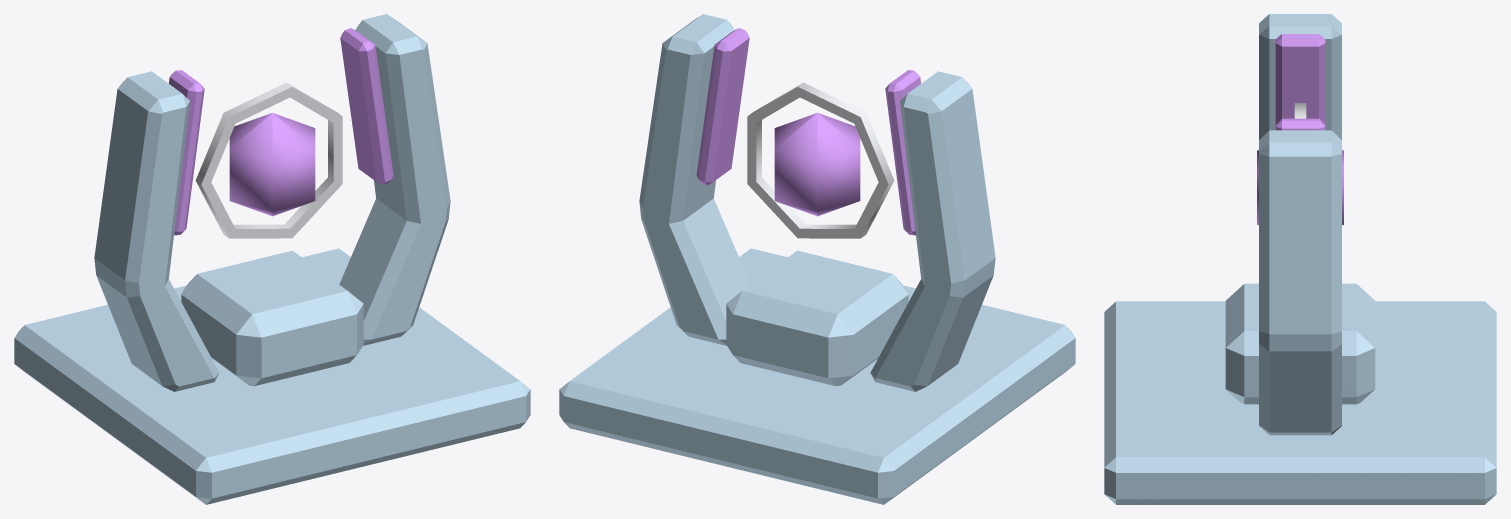
File: R4X_Blink_LOD1.glb
The picture shows the model from 3 angles, left to right: view 1: azimuth 30°, elevation 25°; view 2: azimuth 150°, elevation 25°; view 3: azimuth 270°, elevation 25°; orthographic projection.
Visible parts, largest first — view 1: R4X_Blink_LOD1; view 2: R4X_Blink_LOD1; view 3: R4X_Blink_LOD1.
Part boxes in pixels (bbox=[...]): R4X_Blink_LOD1: bbox=[14, 14, 530, 504]; R4X_Blink_LOD1: bbox=[559, 14, 1075, 504]; R4X_Blink_LOD1: bbox=[1104, 14, 1496, 504].
Size of the model in its own units: 0.52 by 0.5114 by 0.52.
